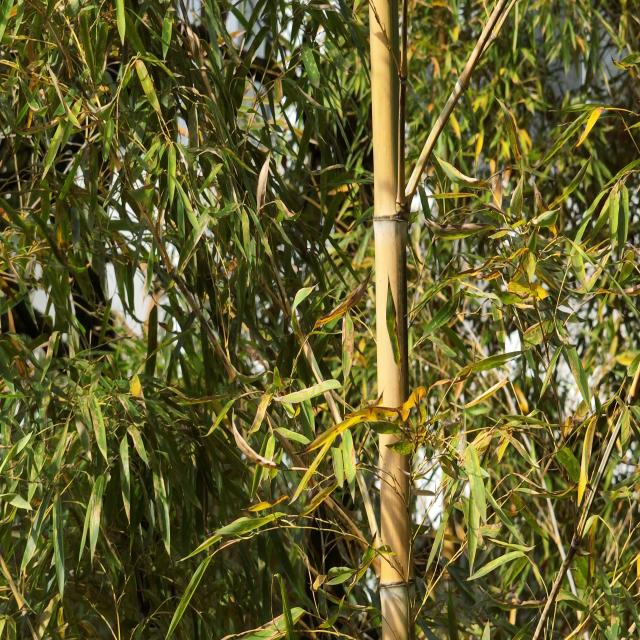Bamboo-shoots: (370, 0, 416, 640)
